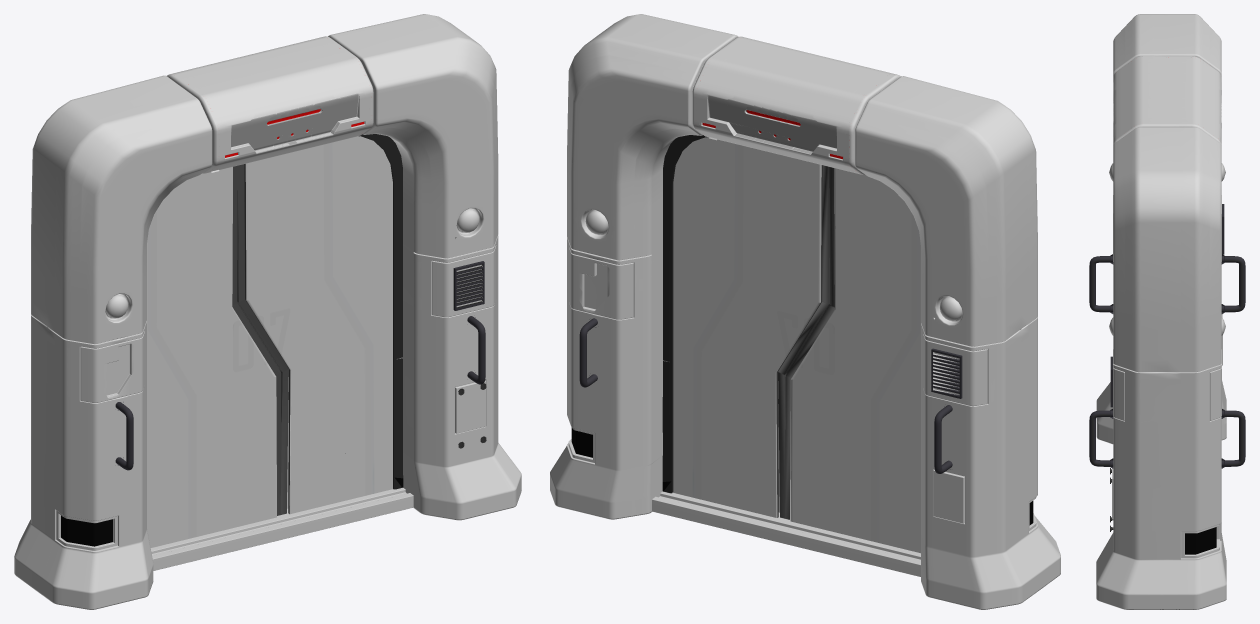
The model's file is Gate.fbx.
3 renders of one model, left to right at view 1: azimuth 30°, elevation 25°; view 2: azimuth 150°, elevation 25°; view 3: azimuth 270°, elevation 25°, orthographic. The views are drawn at different scales.
Parts seen in each view (by area): view 1: Gate main, Gate door right, Gate door left; view 2: Gate main, Gate door right, Gate door left; view 3: Gate main.
Part boxes in pixels (x1,y1,x2,y2): Gate main: (14,14,521,609); Gate door right: (237,136,392,514); Gate door left: (147,165,281,547); Gate main: (550,14,1060,609); Gate door right: (673,137,829,518); Gate door left: (785,167,920,553); Gate main: (1089,14,1245,609).
Size of the model in its own units: 662 by 627 by 213.
